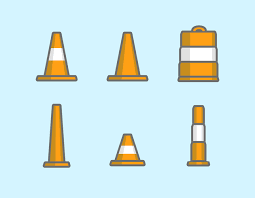cones: (106, 32, 149, 83), (37, 32, 76, 82), (42, 103, 71, 170), (186, 104, 215, 170), (108, 133, 148, 168)
